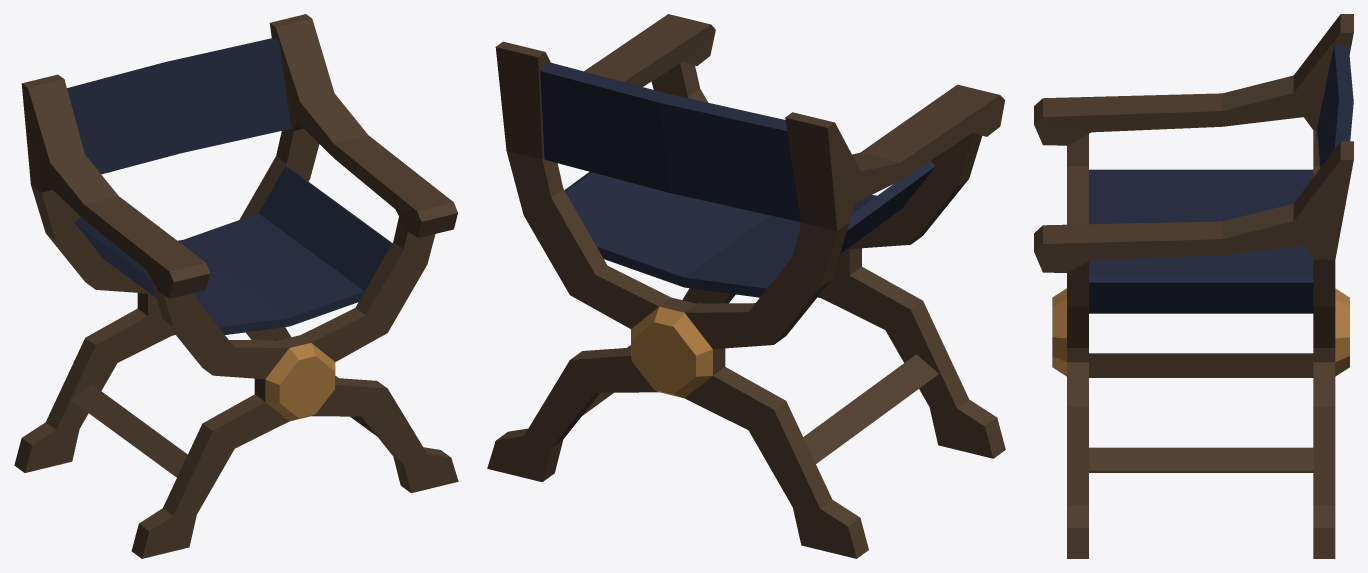
Rendered from empire-chair-empire.glb.
3 views of the same model, side by side, from view 1: azimuth 30°, elevation 25°; view 2: azimuth 150°, elevation 25°; view 3: azimuth 270°, elevation 25° (orthographic). The views are drawn at different scales.
Visible parts, largest first — view 1: SM_Chair_Empire; view 2: SM_Chair_Empire; view 3: SM_Chair_Empire.
Part boxes in pixels (<box>): SM_Chair_Empire: <box>14,14,458,558</box>; SM_Chair_Empire: <box>487,14,1005,558</box>; SM_Chair_Empire: <box>1034,14,1353,558</box>.
Bounding box in the file's own units: 0.9024 × 1.01 × 0.7508.
